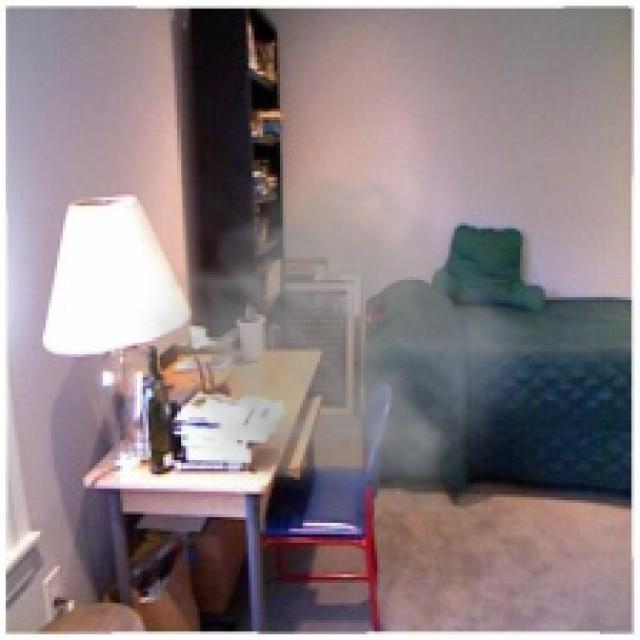Smoke: (134, 132, 546, 512)
